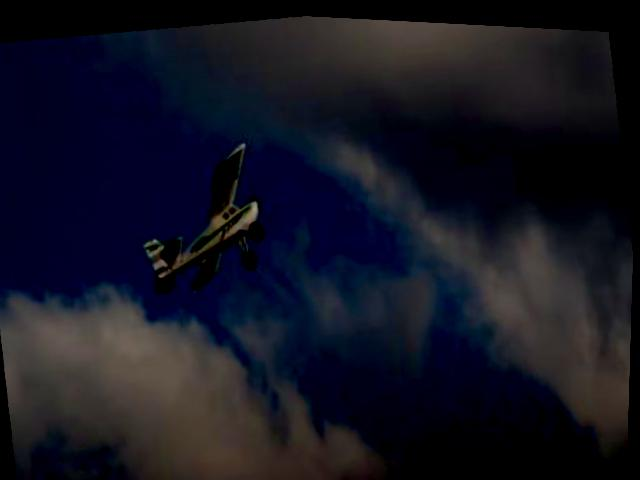uav: (133, 132, 277, 302)
